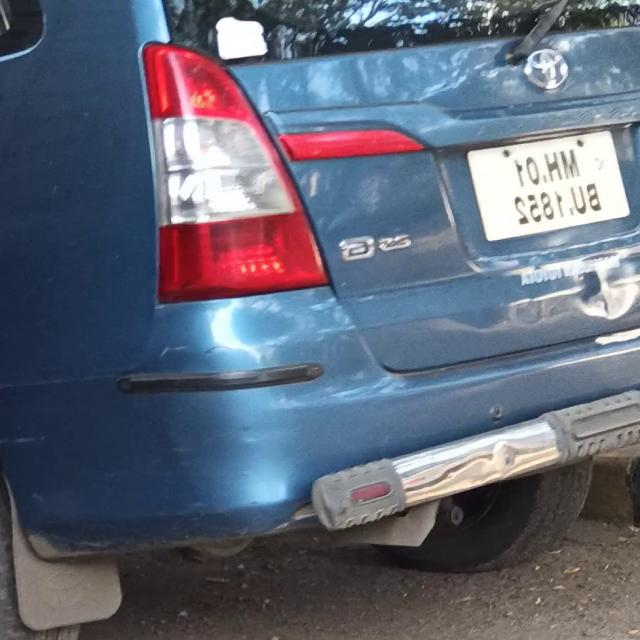license_plate: (463, 121, 636, 247)
